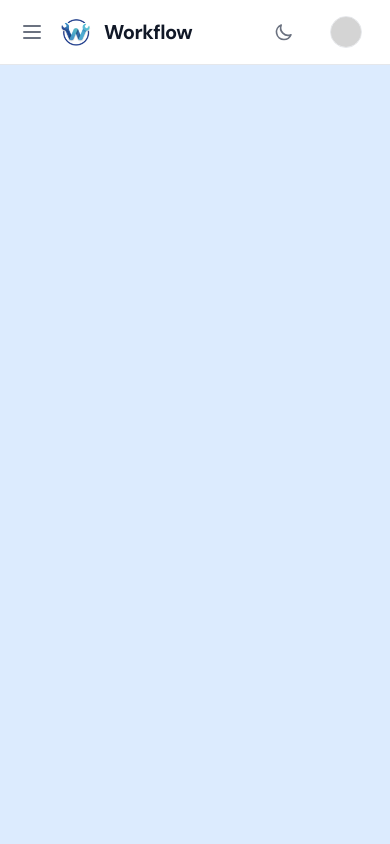
the hamburger is the only way in, and it opens a full-height menu
Click the button named "Open navigation" at (32, 32), box [12,12,52,52]
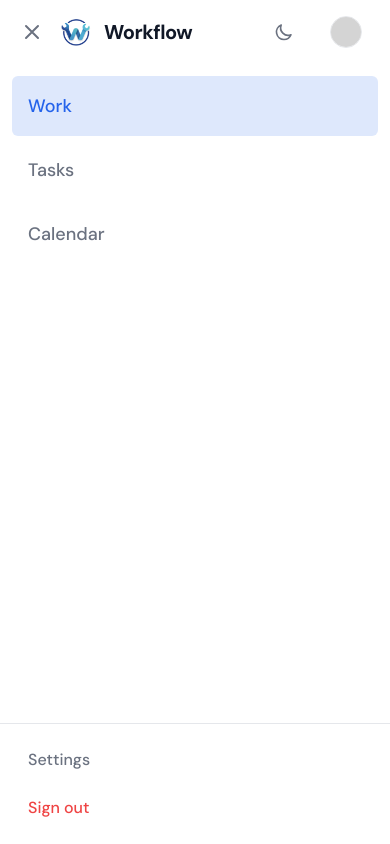
expect the element with class "inset-x-0" is shown: met
